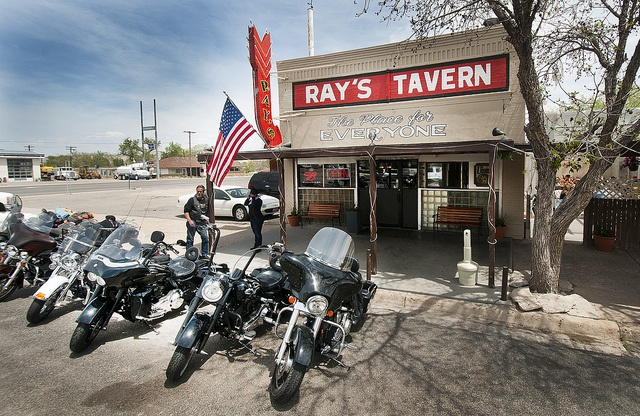non-vehicle: (168, 211, 295, 383), (266, 225, 375, 398), (68, 227, 209, 350), (23, 216, 116, 324), (0, 211, 97, 298)
